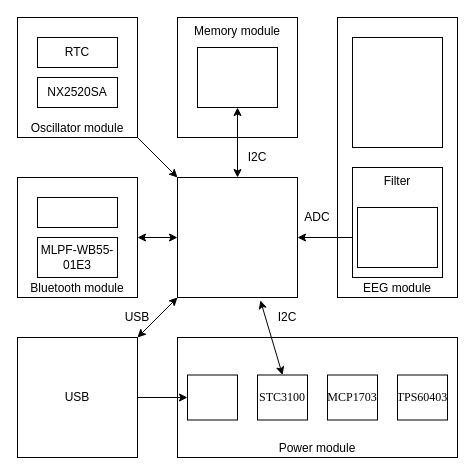
This 475x475 diagram has some shape labels left out. The shapes that lost their labels are listed below. From the top down, each one's centre as x and y in pixels, then its label:
At point 237,77: "M24M01".
At point 397,92: "AD8422".
At point 77,212: "PCB ANTENNA".
At point 237,237: "STM32WB55".
At point 397,237: "LM358".
At point 212,397: "L6924D".
